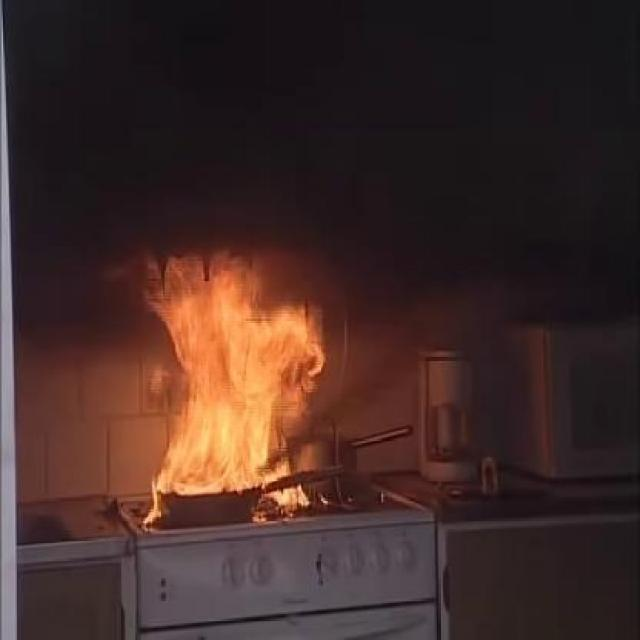fire: (109, 252, 366, 492)
